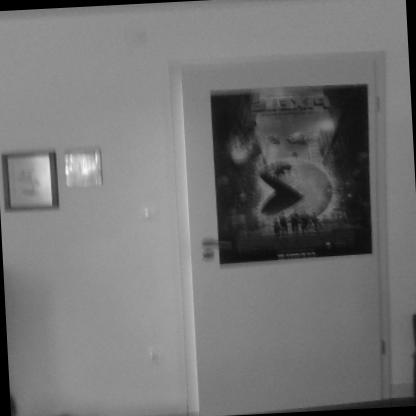closed: (157, 44, 410, 416)
